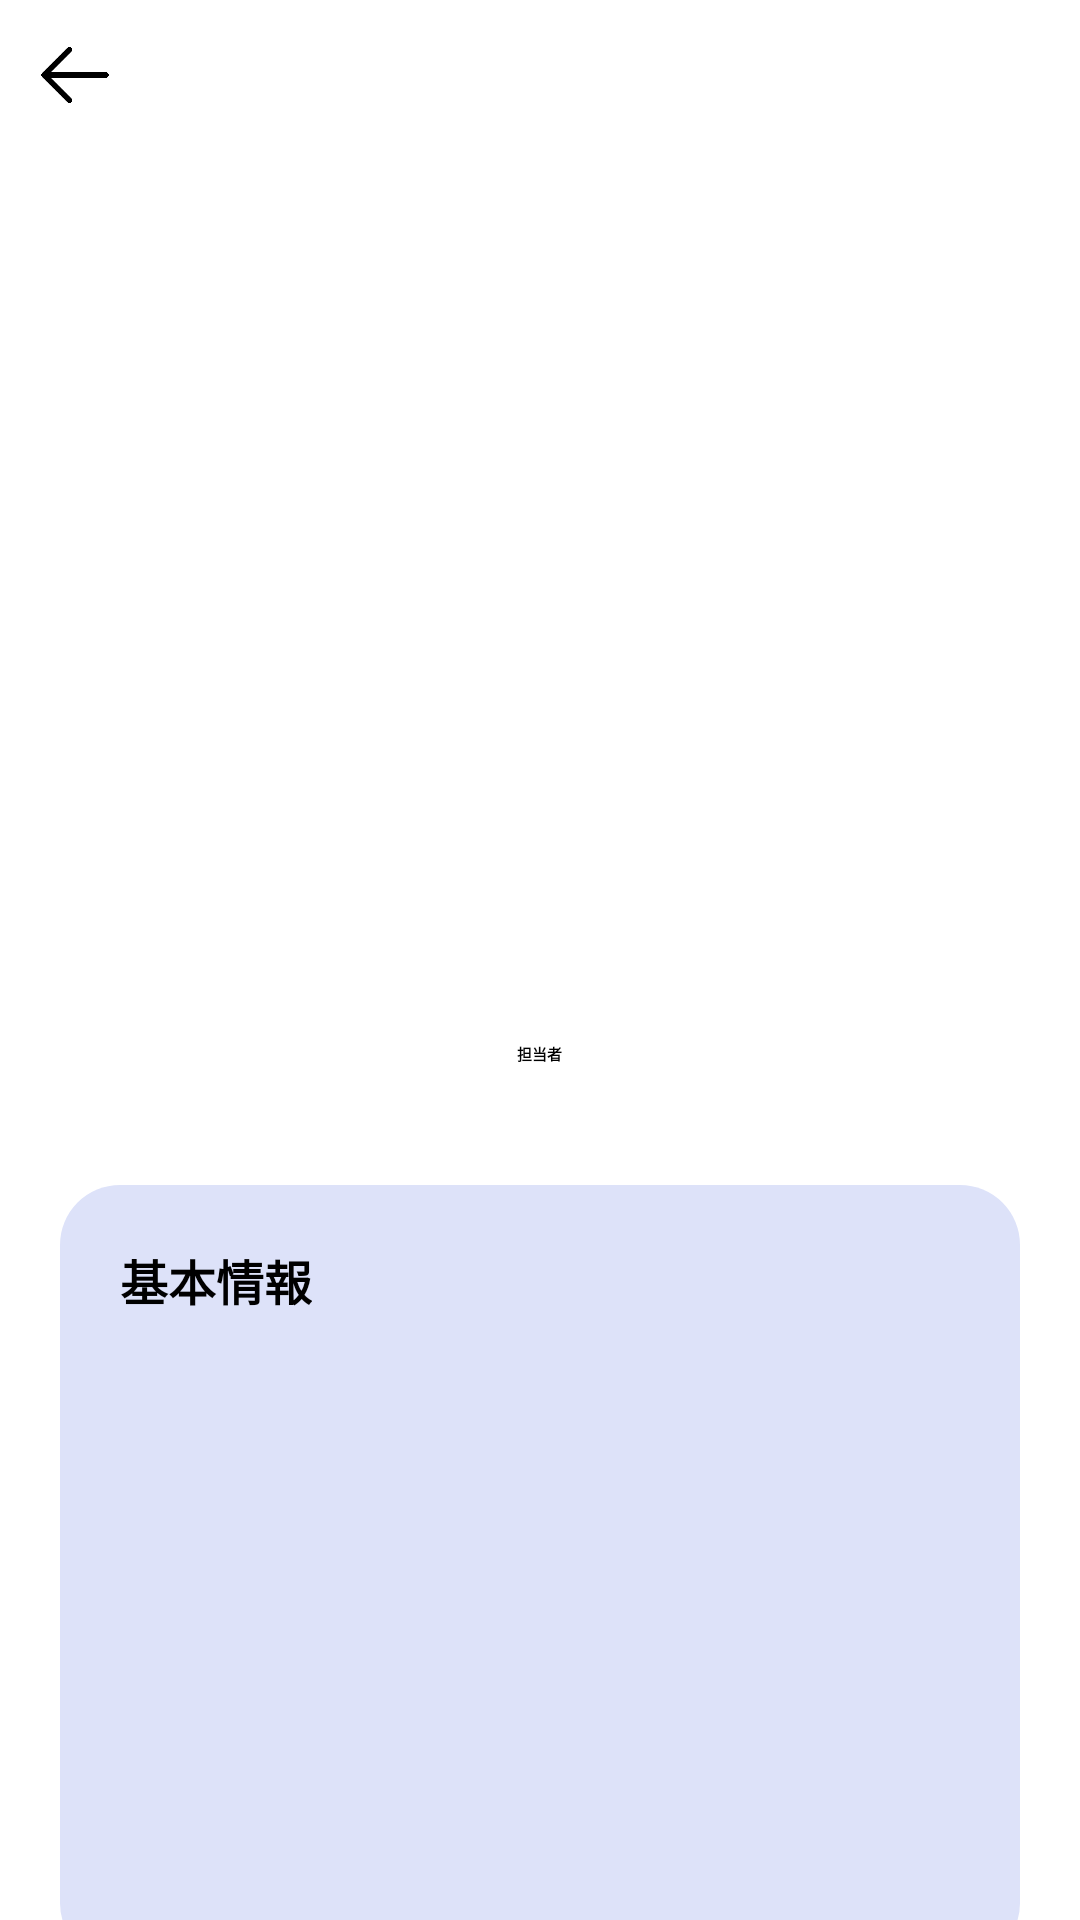

Screen size 1080*1920. Icon name, then its box in pixels as (x1, y1, x2, y2):
back arrow: (41, 47, 109, 103)
